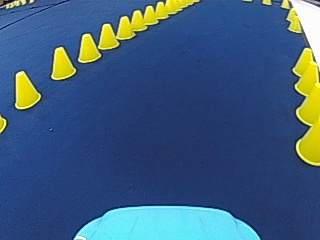cone: (295, 119, 319, 164), (294, 81, 319, 124), (13, 69, 40, 108), (49, 45, 76, 79), (295, 61, 319, 94), (76, 32, 101, 62), (292, 47, 313, 76), (97, 22, 118, 49), (115, 15, 134, 39), (129, 9, 145, 30), (142, 5, 157, 25), (287, 11, 300, 31), (153, 1, 167, 19)
